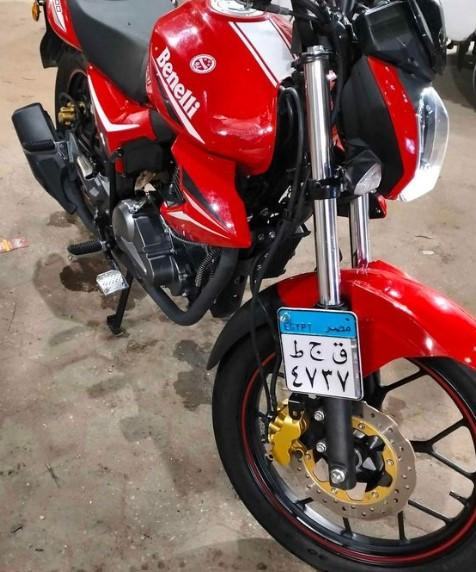License Plate: (277, 307, 368, 399)
